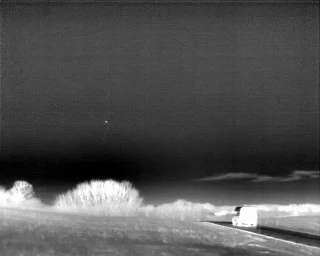BIRD: (102, 118, 110, 126)
